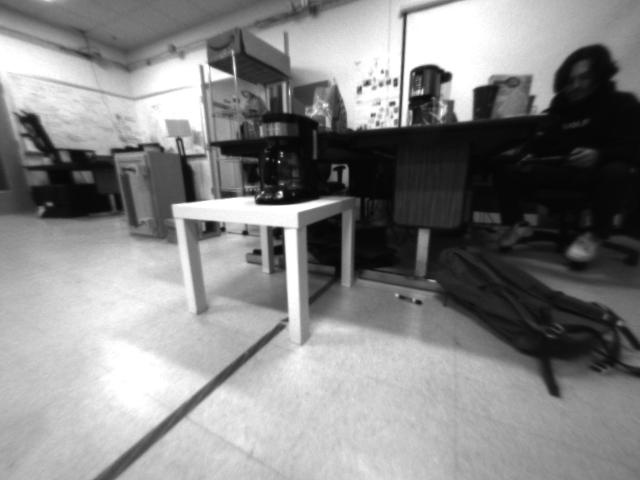coffee_pot: (254, 114, 324, 206)
